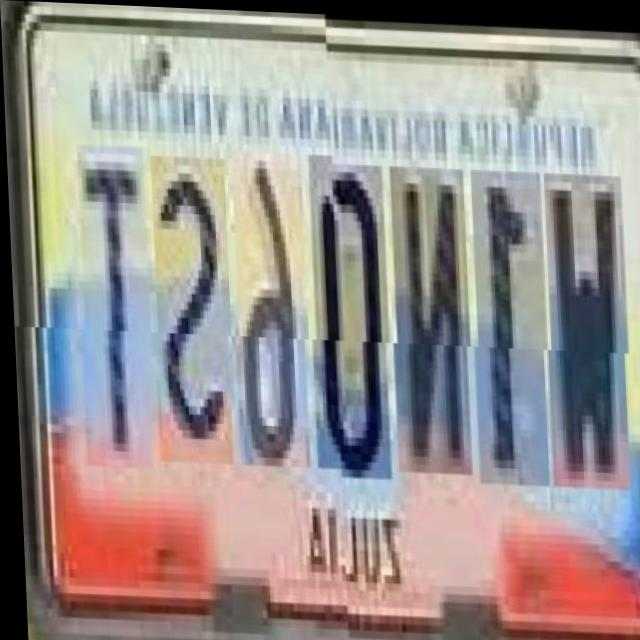0: (303, 160, 387, 476)
1: (465, 166, 545, 482)
6: (226, 157, 307, 473)
n: (385, 163, 468, 471)
s: (146, 163, 229, 471)
t: (73, 152, 149, 476)
w: (538, 168, 627, 485)
